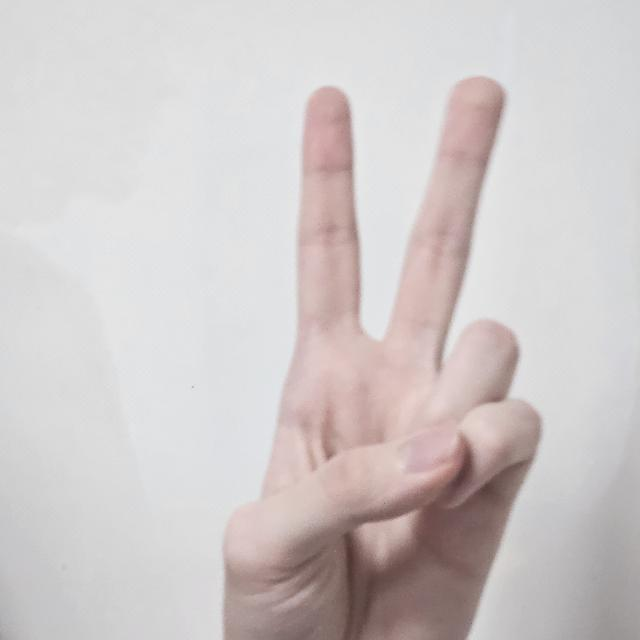Triangulo: (223, 75, 545, 640)
